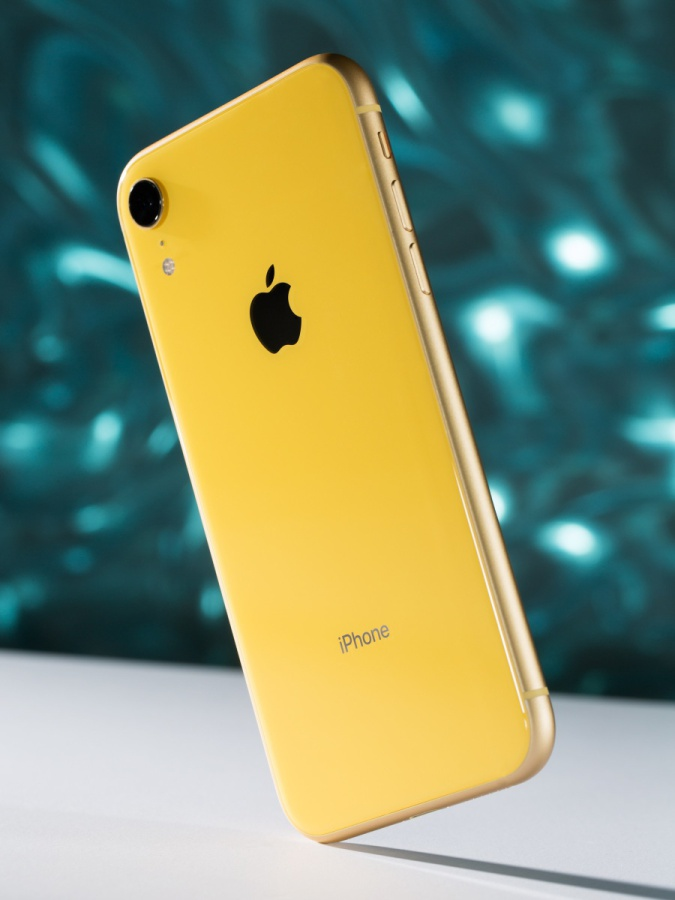apple: (236, 251, 323, 381)
